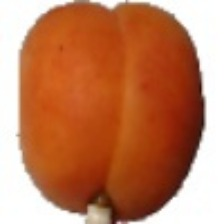apricot: (45, 13, 194, 170)
